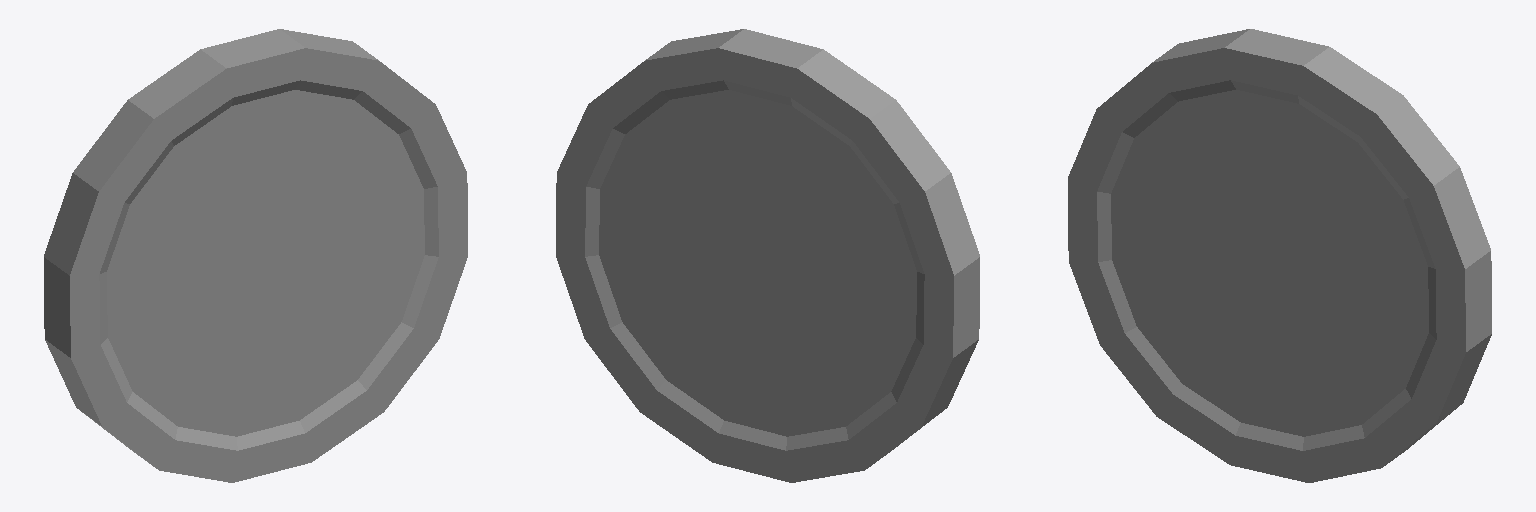
The model's file is coin.obj.
3 renders of one model, left to right at view 1: azimuth 30°, elevation 25°; view 2: azimuth 150°, elevation 25°; view 3: azimuth 330°, elevation 25°, orthographic.
Parts seen in each view (by area): view 1: coin.png; view 2: coin.png; view 3: coin.png.
Part boxes in pixels (x1,y1,x2,y2): coin.png: (44,29,467,482); coin.png: (556,29,979,482); coin.png: (1068,29,1491,482).
Size of the model in its own units: 0.9835 by 0.9835 by 0.1124.